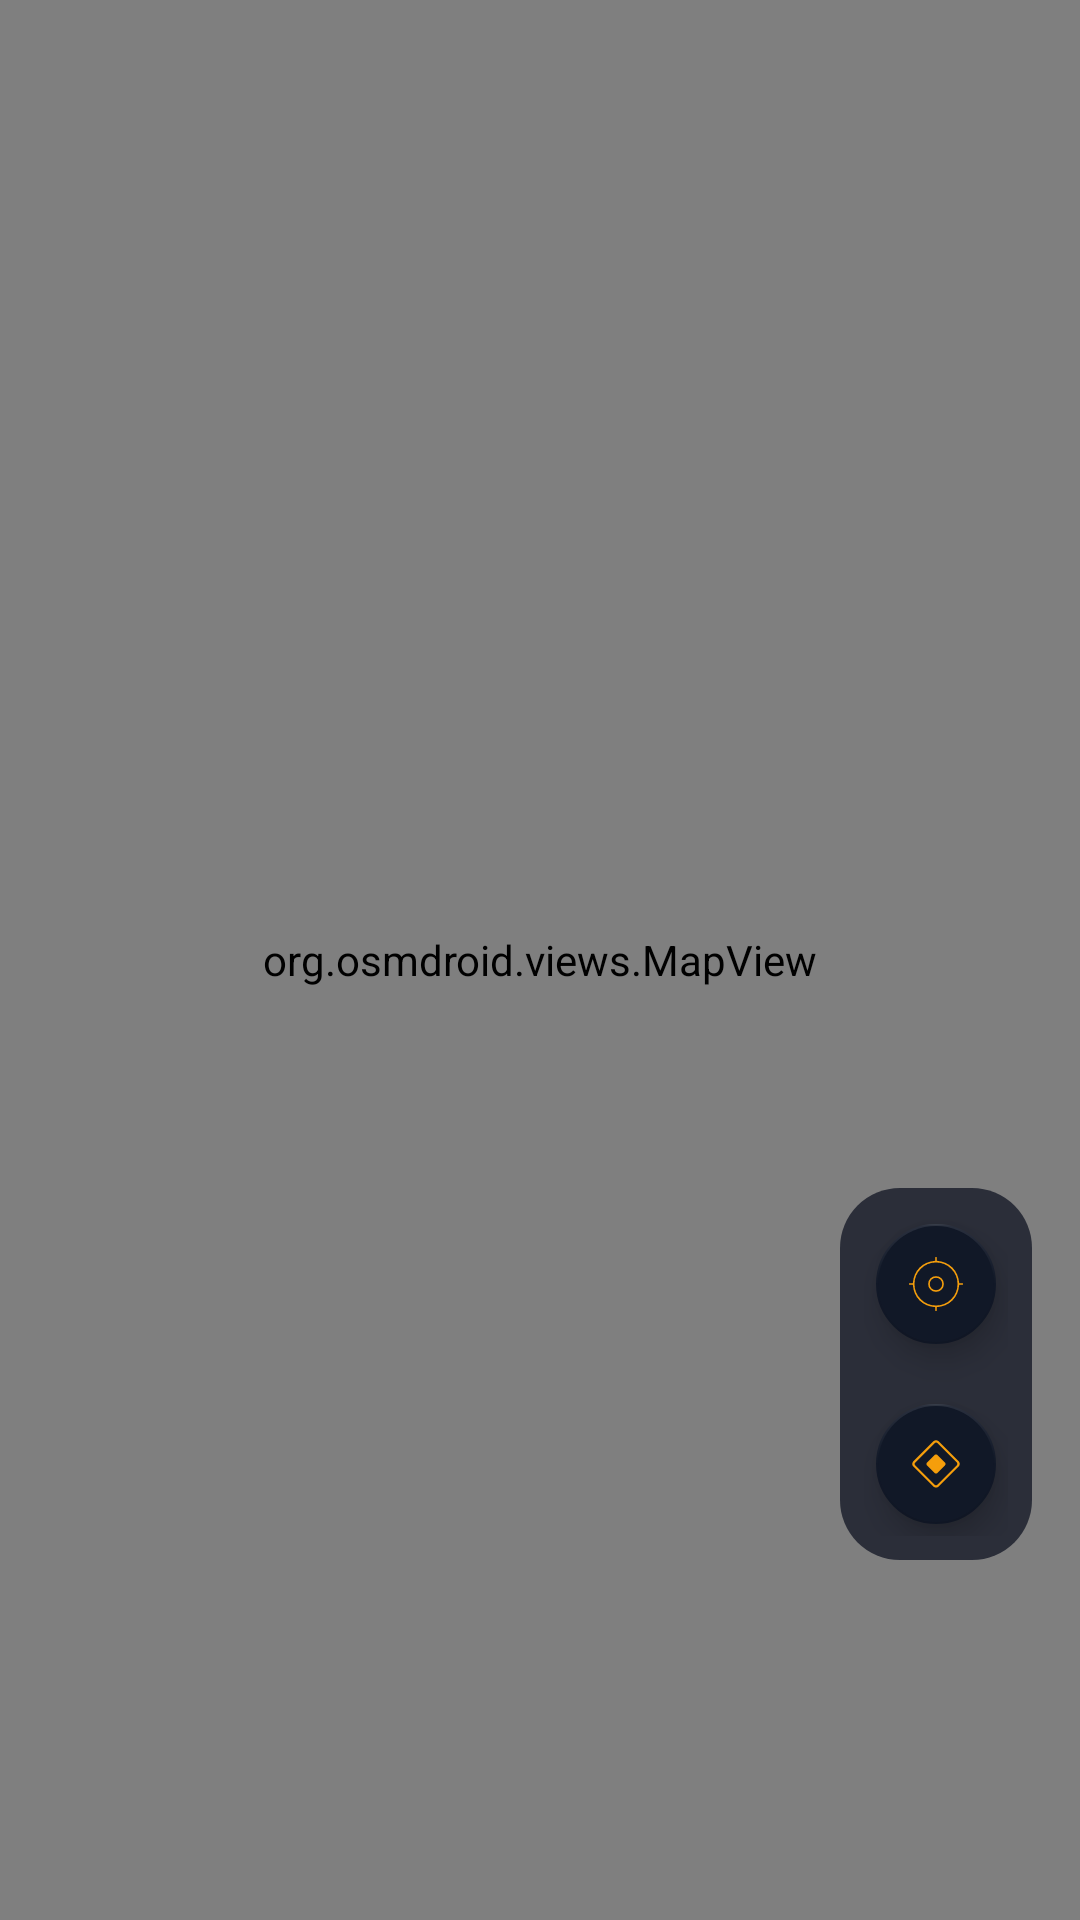

Where to tap for icons on this 1080×1920 app screen, as (x,y):
location: (936,1285)
